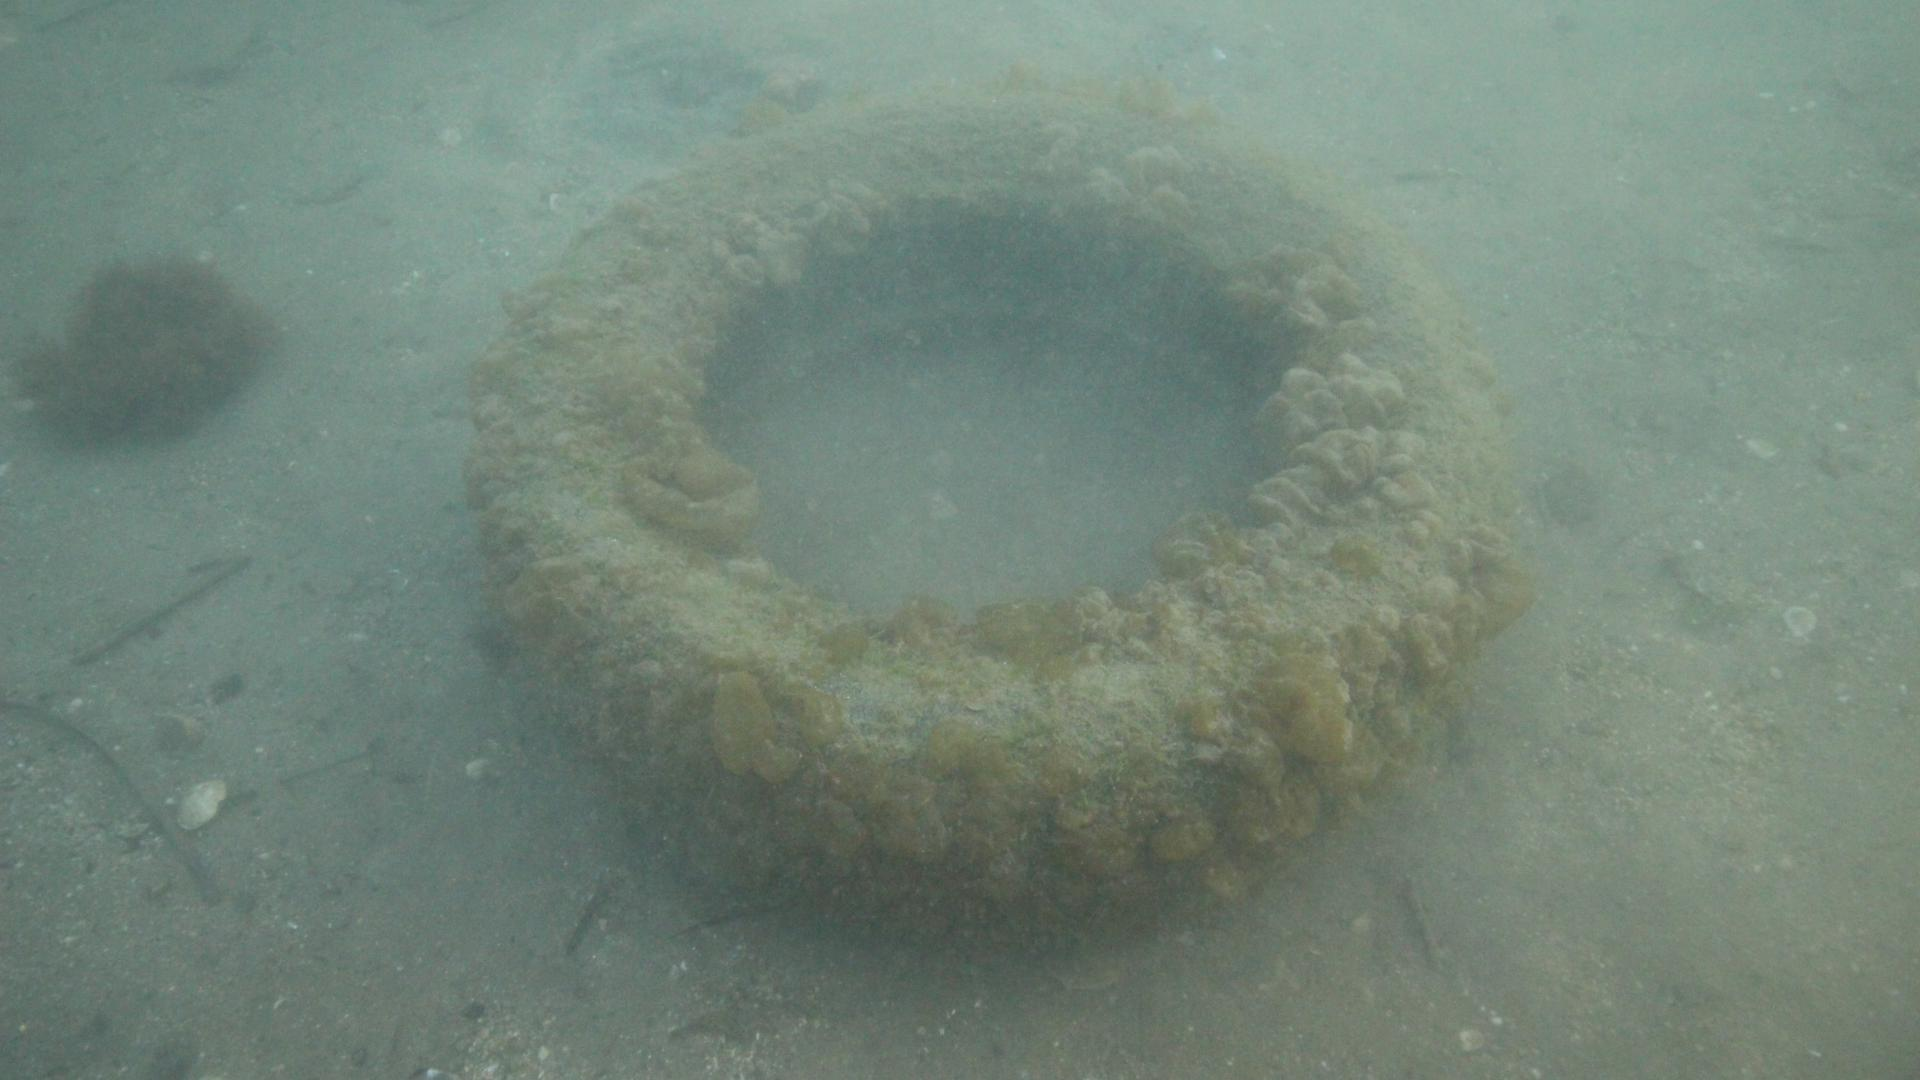tire: (471, 80, 1510, 940)
